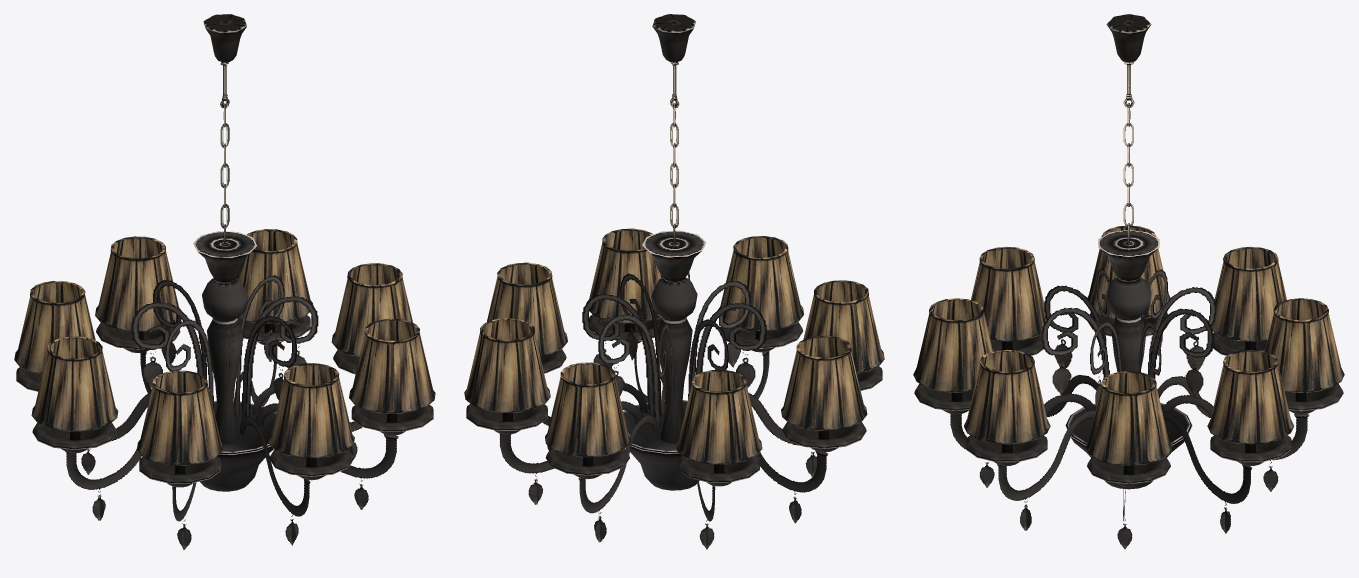
Rendered from Chandelier01.FBX.
3 views of the same model, side by side, from view 1: azimuth 30°, elevation 25°; view 2: azimuth 150°, elevation 25°; view 3: azimuth 270°, elevation 25° (orthographic).
Visible parts, largest first — view 1: Chandelier01; view 2: Chandelier01; view 3: Chandelier01.
Part boxes in pixels (<box>): Chandelier01: <box>14,14,435,549</box>; Chandelier01: <box>464,14,884,549</box>; Chandelier01: <box>913,14,1344,549</box>.
Size of the model in its own units: 143 by 143 by 172.
